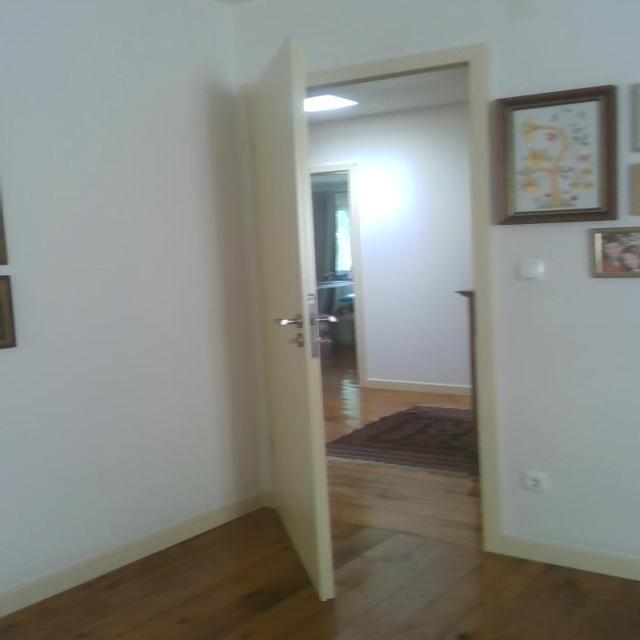door: (240, 38, 362, 606)
